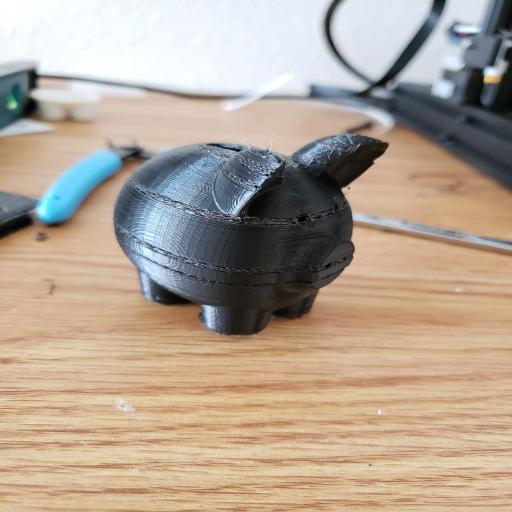cracks: (135, 241, 387, 296)
